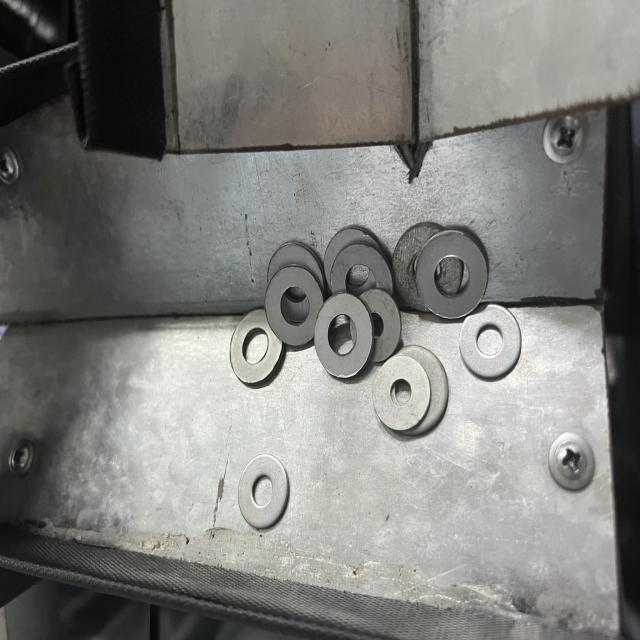washer: (415, 229, 486, 321), (313, 293, 374, 379), (263, 264, 322, 346), (373, 354, 429, 431), (237, 454, 291, 530)
